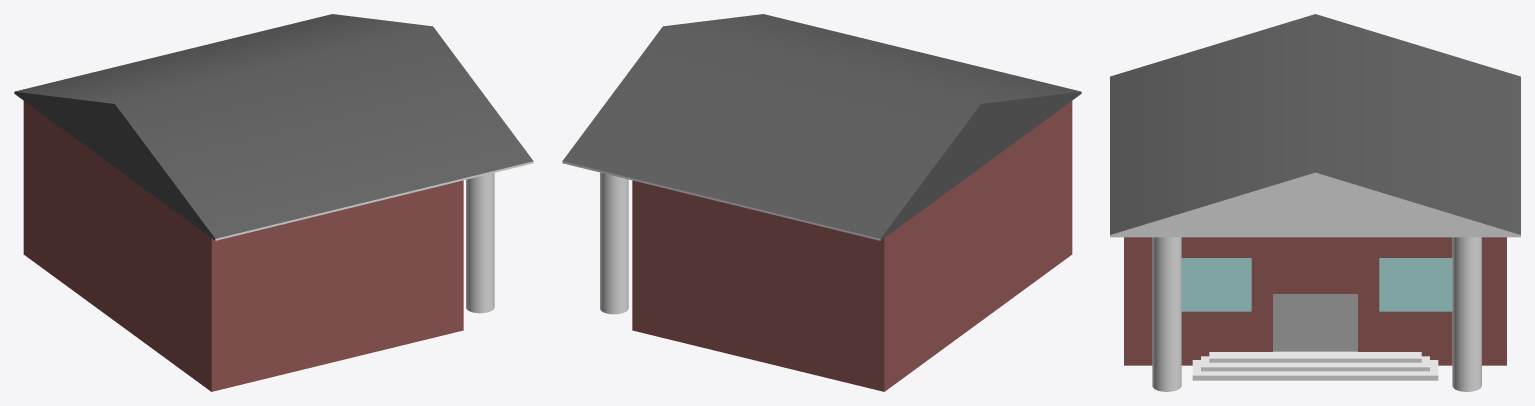
Rendered from library2.fbx.
3 renders of one model, left to right at view 1: azimuth 30°, elevation 25°; view 2: azimuth 150°, elevation 25°; view 3: azimuth 270°, elevation 25°, orthographic. The views are drawn at different scales.
Visible parts, largest first — view 1: polySurface2; view 2: polySurface2; view 3: polySurface2.
Part boxes in pixels (x1,y1,x2,y2): polySurface2: (14,14,533,391); polySurface2: (562,14,1081,391); polySurface2: (1110,14,1520,391).
Size of the model in its own units: 1.53 by 1.02 by 1.67.
